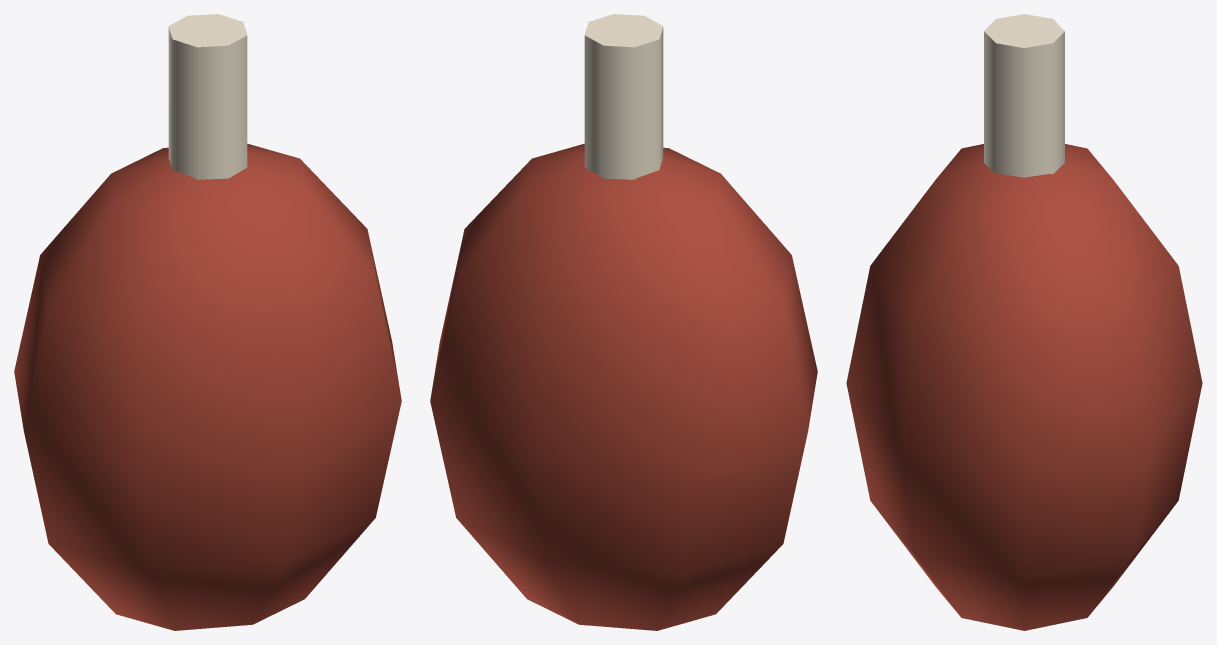
File: letrero-carniceria.glb
The picture shows the model from 3 angles, left to right: view 1: azimuth 30°, elevation 25°; view 2: azimuth 150°, elevation 25°; view 3: azimuth 270°, elevation 25°; orthographic projection.
Parts seen in each view (by area): view 1: letrero-carniceria; view 2: letrero-carniceria; view 3: letrero-carniceria.
Boxes of the visible parts, x1,y1,x2,y2 form: letrero-carniceria: [14, 14, 401, 630]; letrero-carniceria: [430, 14, 817, 630]; letrero-carniceria: [846, 14, 1202, 630].
Bounding box in the file's own units: 0.26 × 0.4 × 0.22.
